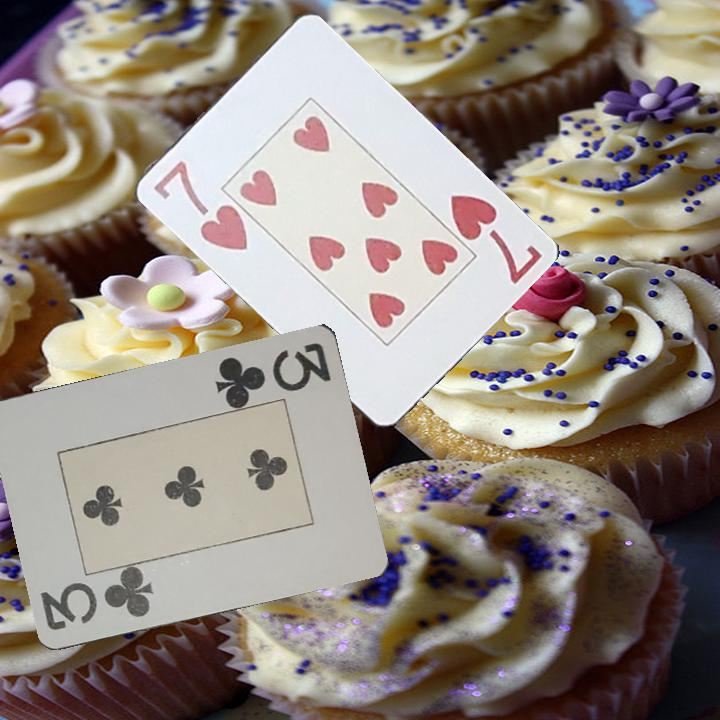3c: (212, 338, 337, 409), (37, 566, 157, 633)
7h: (149, 156, 250, 254), (445, 191, 545, 287)
